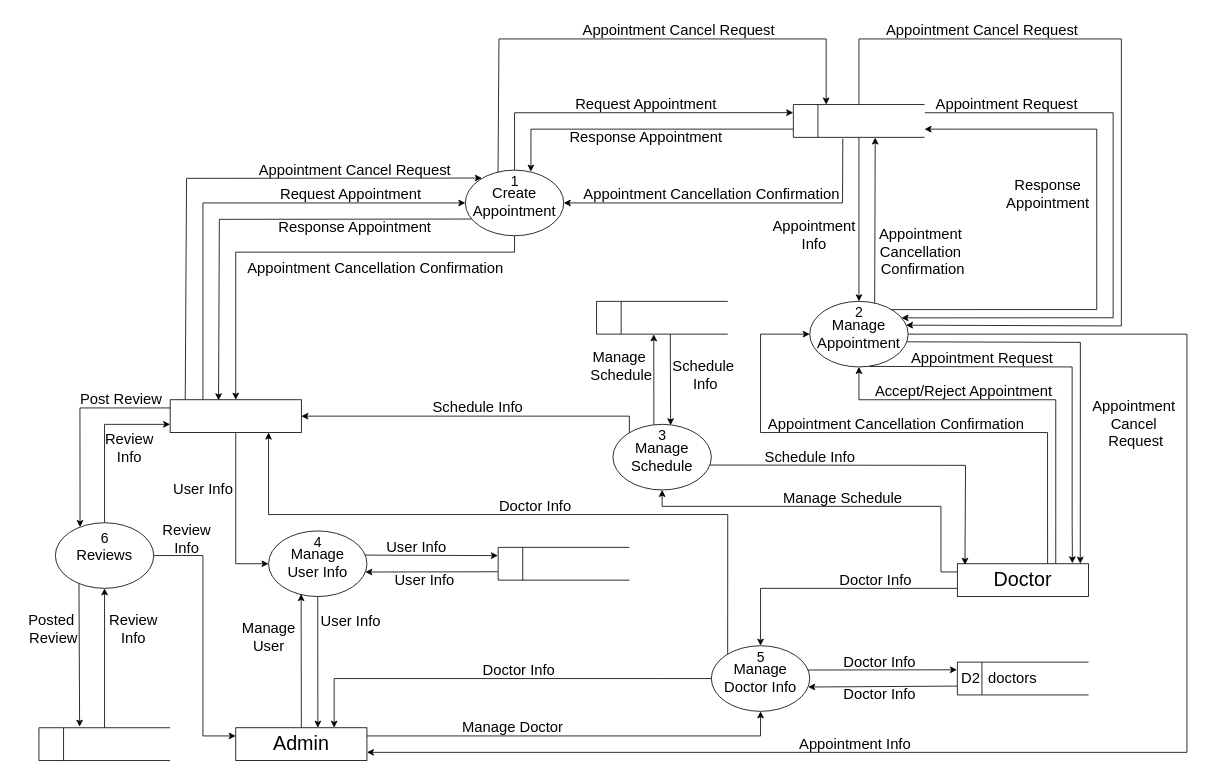
This 1208x775 diagram has some shape labels left out. The shapes that lost their labels are listed below. From the top down, each one's centre as x and y in pixels, then its label:
(859,120): D4 Appointment
(662,317): D3 doctors_Schedule
(235,416): User
(563,563): D1 users
(104,744): D5 review
